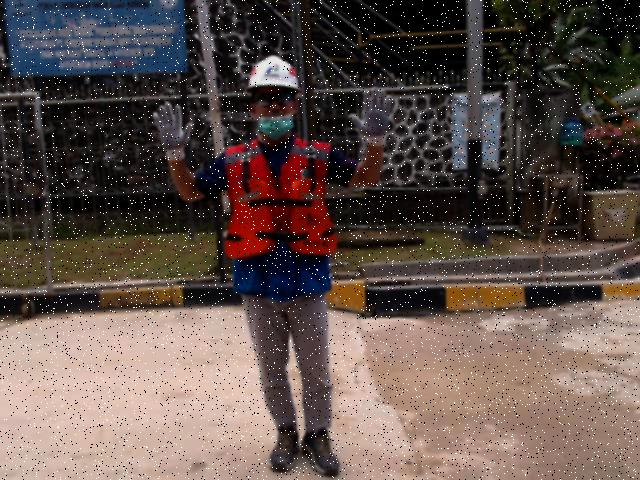glasses: (248, 90, 302, 107)
gloves: (140, 98, 195, 152), (352, 87, 400, 145)
helmet: (242, 55, 304, 97)
mask: (257, 113, 294, 141)
safety-shoes: (300, 419, 347, 476), (266, 420, 301, 472)
vest: (219, 174, 343, 267)
